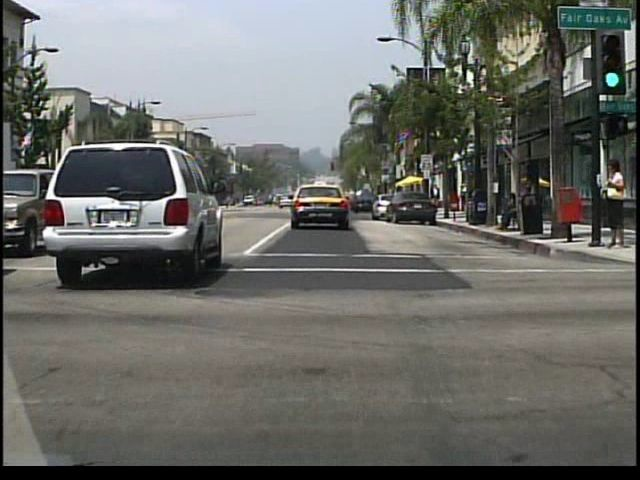person: (596, 162, 625, 251), (496, 191, 523, 232), (520, 179, 534, 230), (429, 184, 442, 214)
